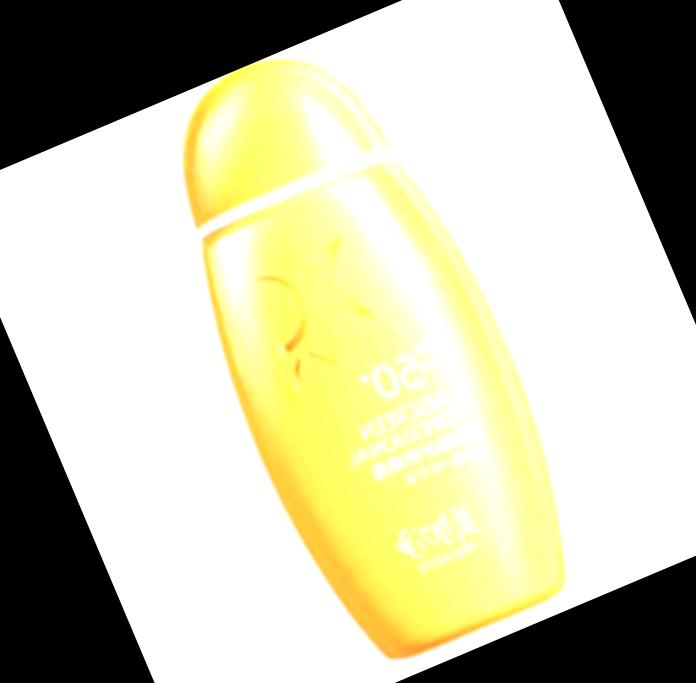cosmetic: (120, 13, 609, 683)
